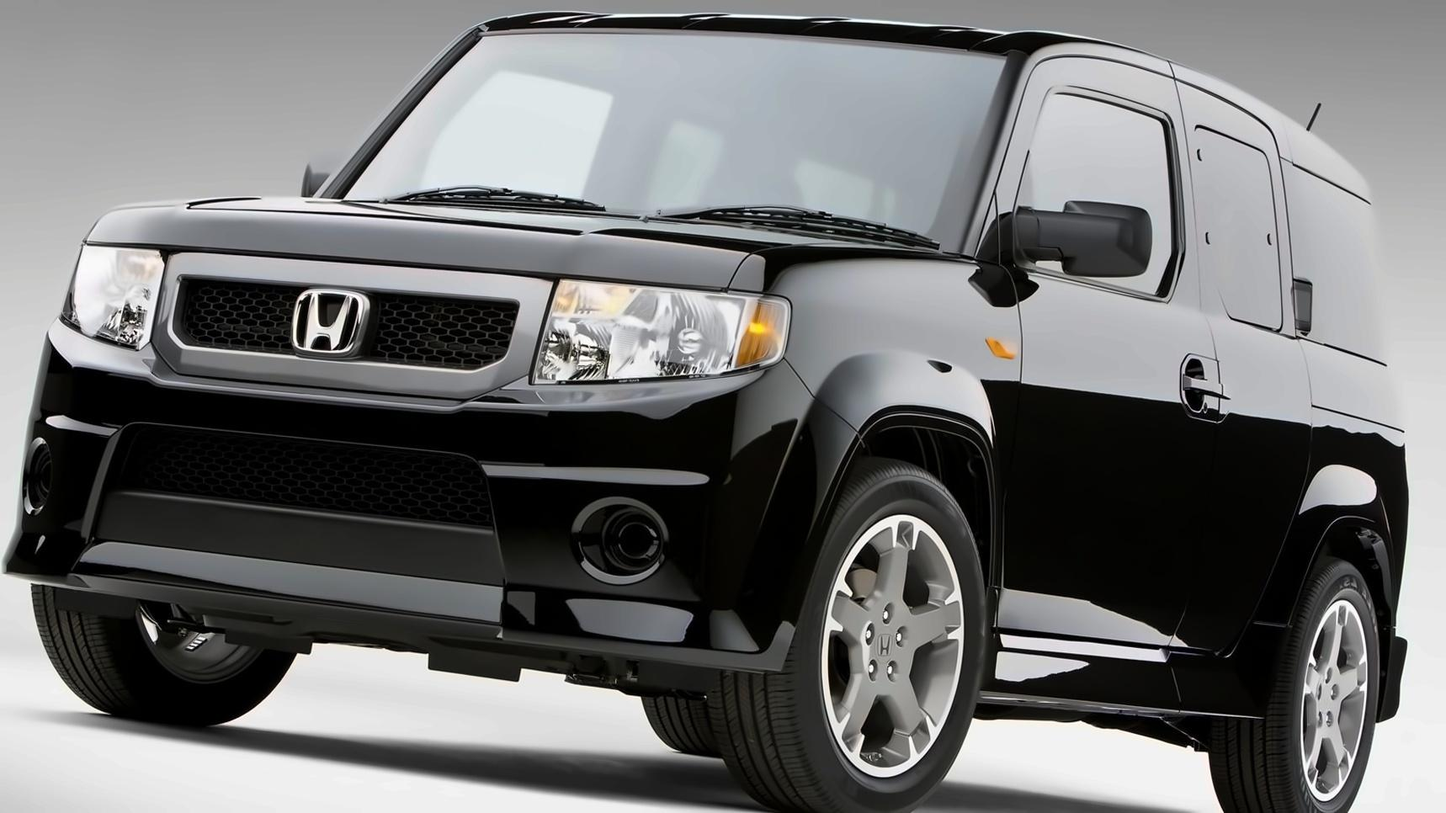Car hood: (87, 198, 889, 300)
Fender - -F-L-: (721, 237, 1029, 510)
Fender - -R-L-: (1302, 348, 1412, 647)
Front bumper: (3, 313, 867, 694)
Headlight - -L-: (521, 278, 792, 385)
Headlight - -R-: (46, 241, 166, 352)
Passenger-s door - -F-L-: (975, 23, 1226, 757)
Passenger-s door - -R-L-: (1181, 38, 1321, 755)
Side bumper - -L-: (971, 630, 1279, 750)
Side mirror - -L-: (1007, 198, 1155, 294)
